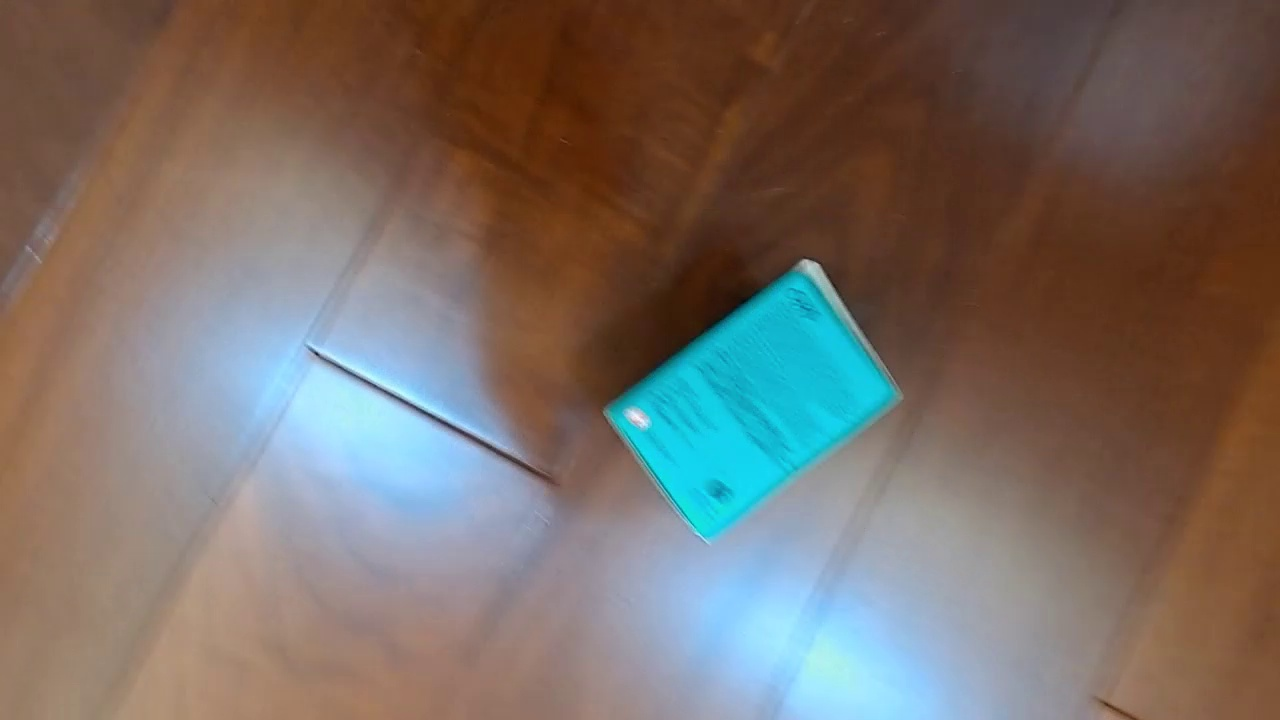webcam: (598, 254, 905, 548)
